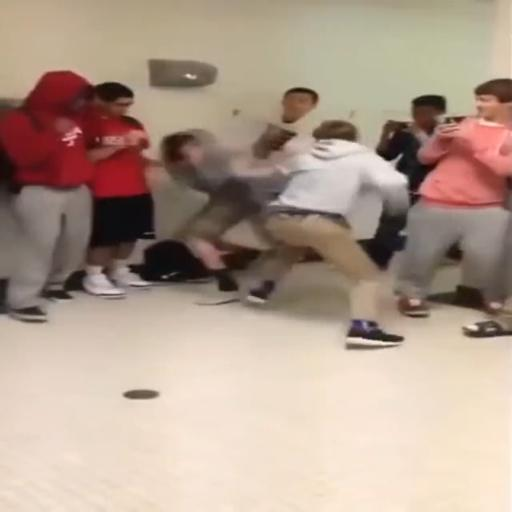violencia: (138, 115, 422, 353)
